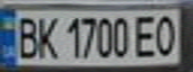0: (112, 14, 133, 58), (96, 14, 115, 58)
1: (60, 14, 81, 58)
7: (78, 14, 96, 58)
B: (12, 13, 42, 60)
E: (133, 11, 160, 60)
K: (33, 12, 60, 60)
O: (151, 11, 181, 57)
